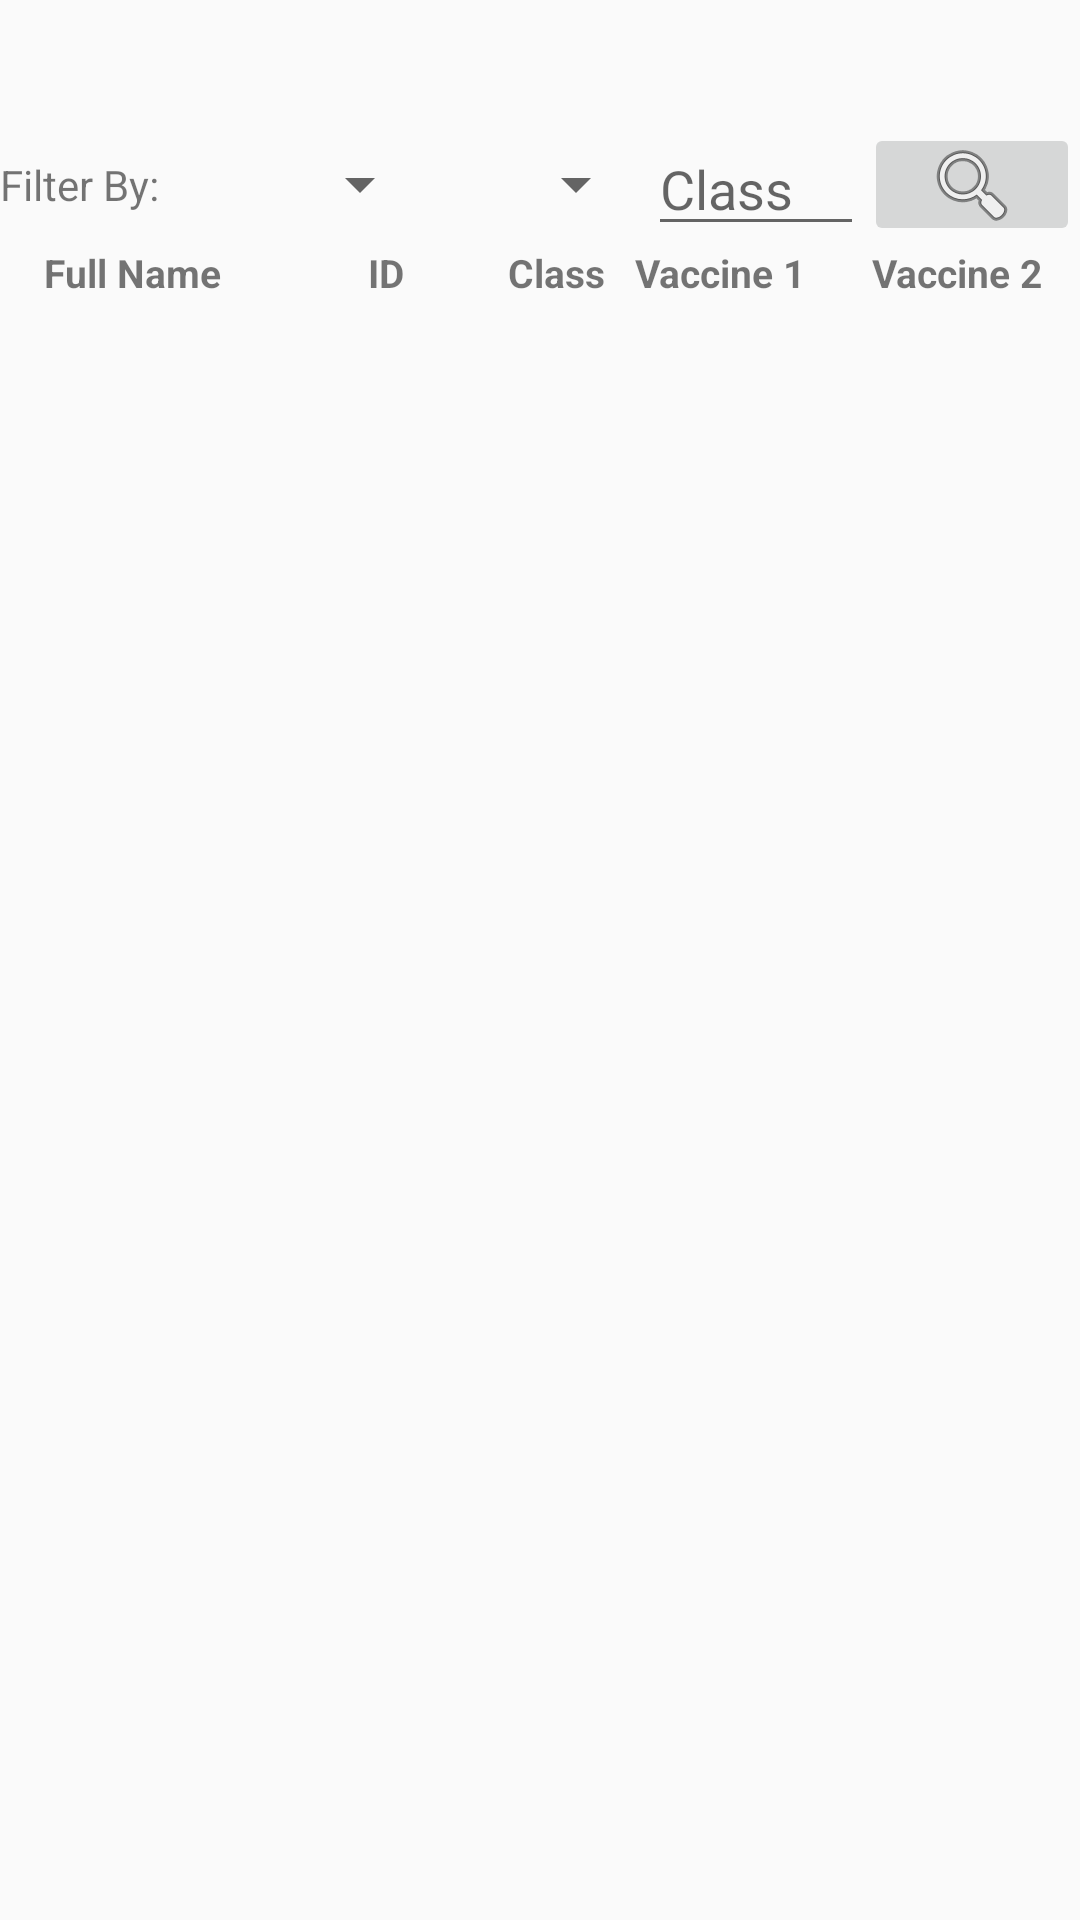

Icon click points for this 1080 × 1920 phone screenshot, format (x,y):
search: (972,184)
